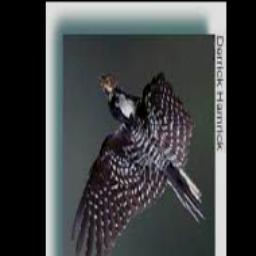Woodpecker: (65, 64, 204, 256)
